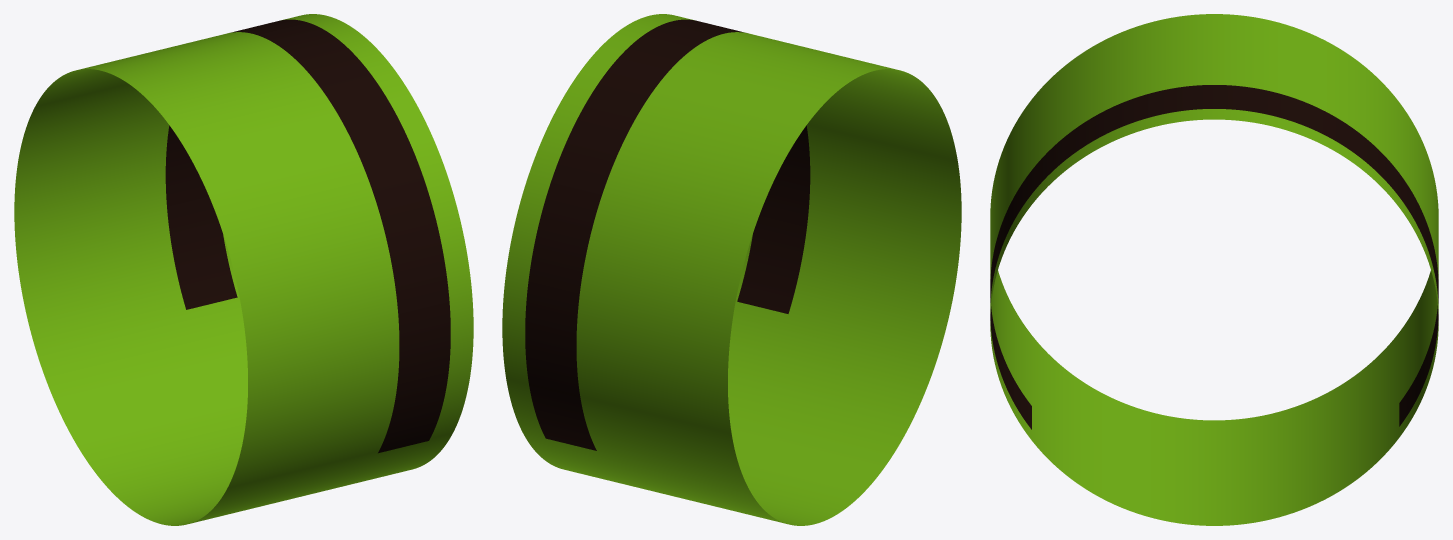
File: SM_Sol.FBX
The picture shows the model from 3 angles, left to right: view 1: azimuth 30°, elevation 25°; view 2: azimuth 150°, elevation 25°; view 3: azimuth 270°, elevation 25°; orthographic projection. The views are drawn at different scales.
Parts seen in each view (by area): view 1: Cylinder009; view 2: Cylinder009; view 3: Cylinder009.
Part boxes in pixels (x1,y1,x2,y2): Cylinder009: (14, 14, 473, 525); Cylinder009: (502, 14, 961, 525); Cylinder009: (990, 14, 1438, 525).
Bounding box in the file's own units: 122 × 220 × 220.
